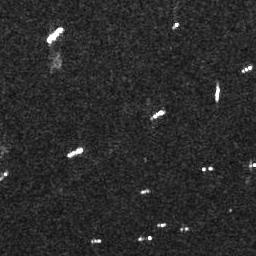ship: (45, 25, 65, 44), (64, 146, 84, 159), (151, 108, 166, 120), (138, 233, 153, 243), (240, 64, 253, 73), (215, 84, 221, 103), (170, 21, 180, 29), (91, 237, 102, 244), (141, 187, 149, 195)
